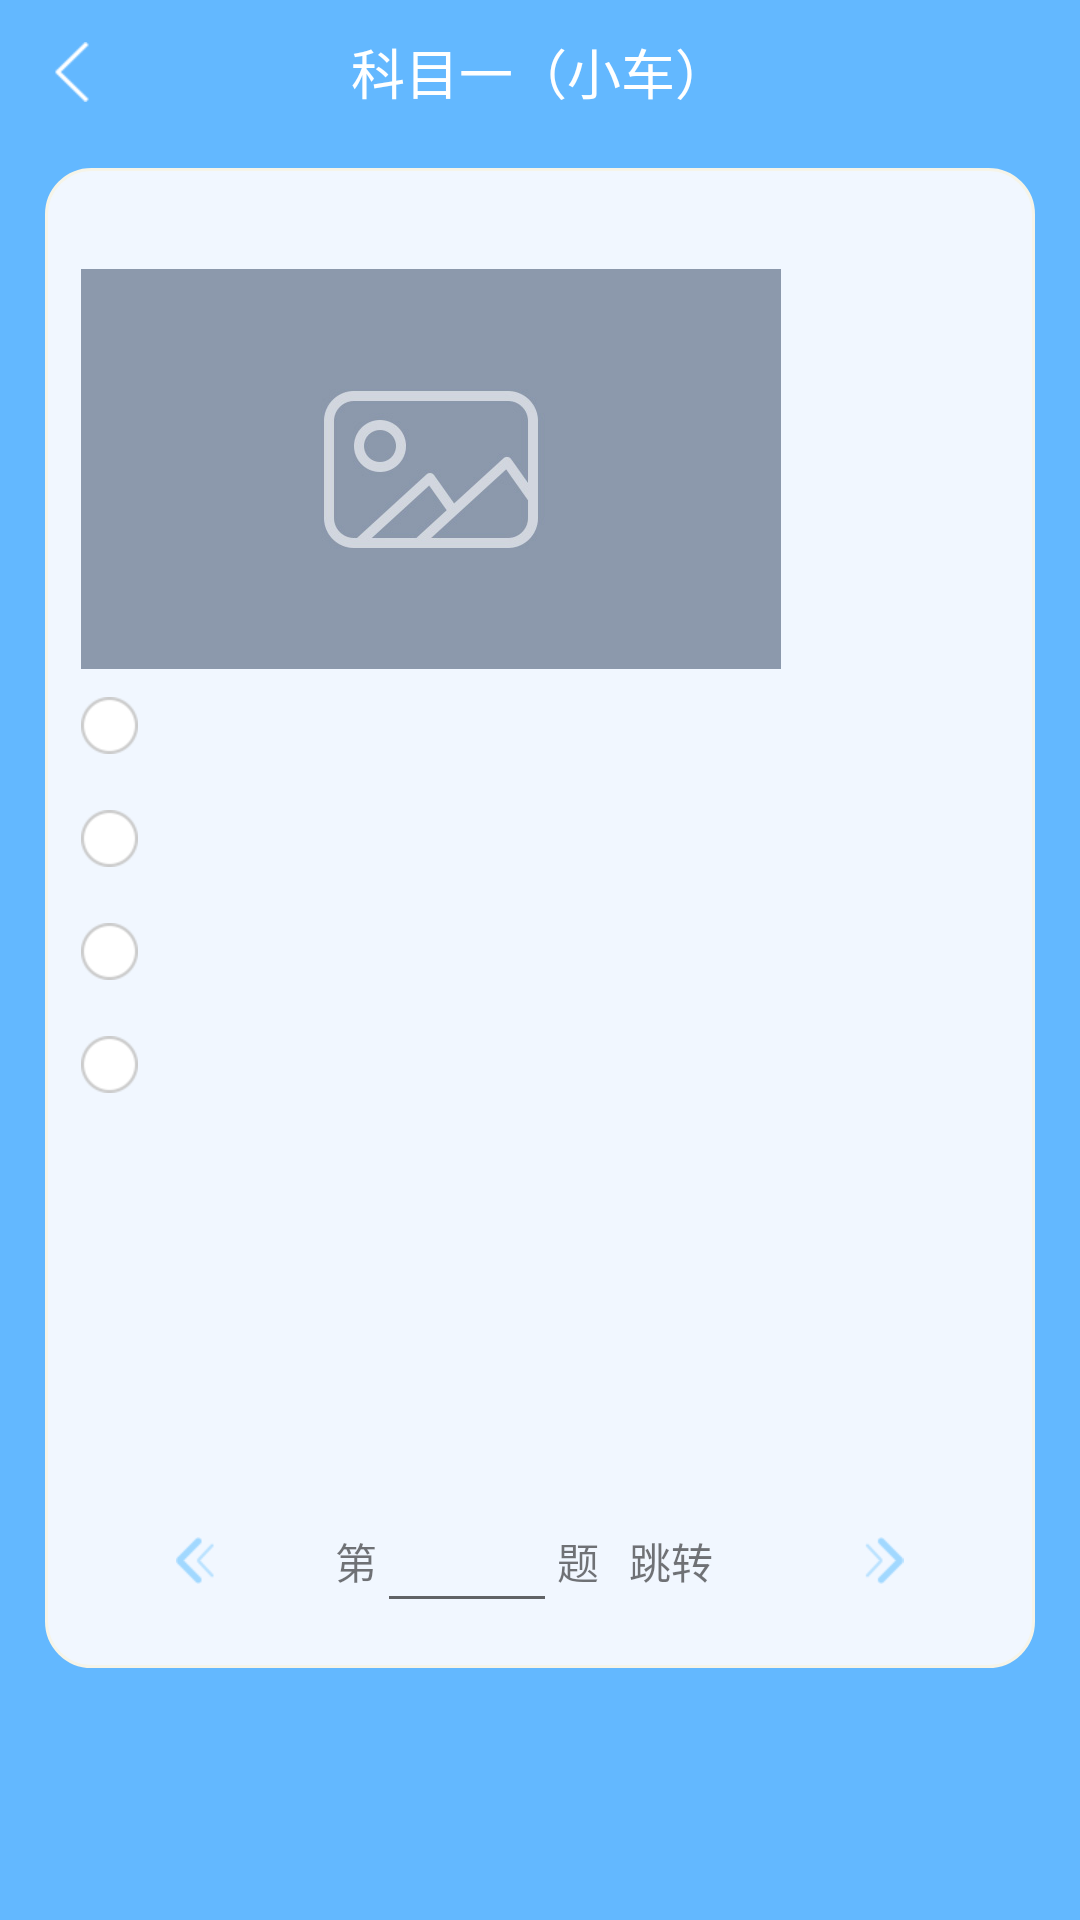

Point at icon controls on the screen. Image size 1080w x 1920h, points as (x=x, y=y).
back: (x=72, y=72)
exercise last: (x=195, y=1560)
exercise next: (x=885, y=1560)
